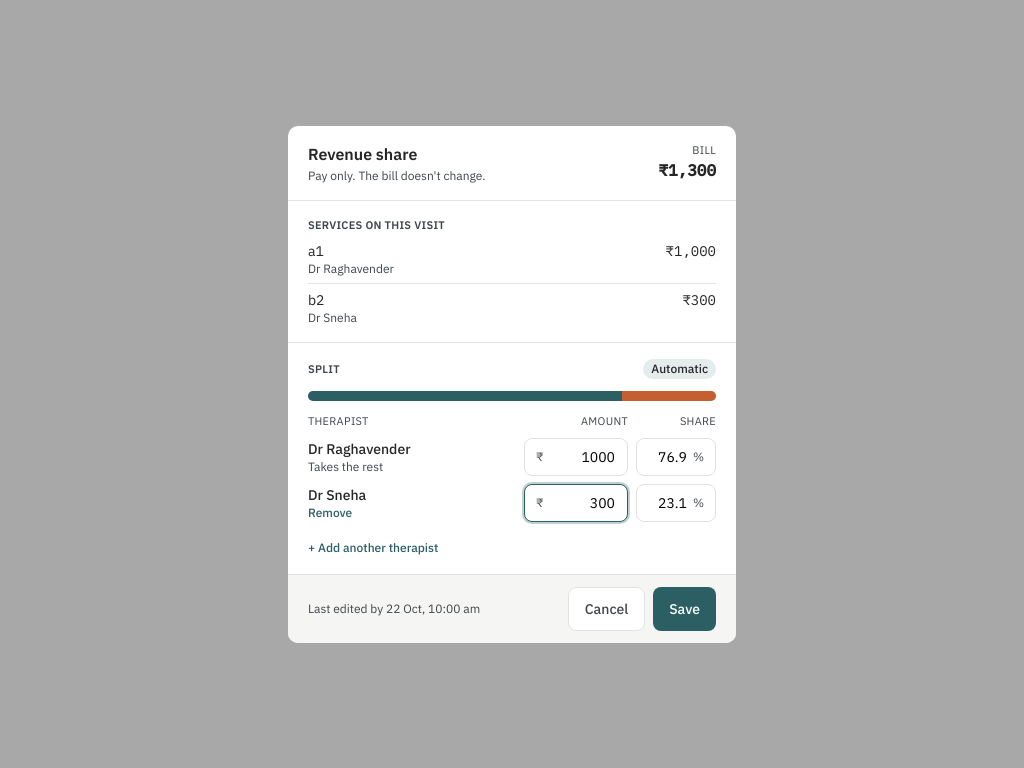
Test: RevenueShareEditor › adds a therapist from the picker
Click the button "+ Add another therapist" at (373, 548), box [308,540,438,556]
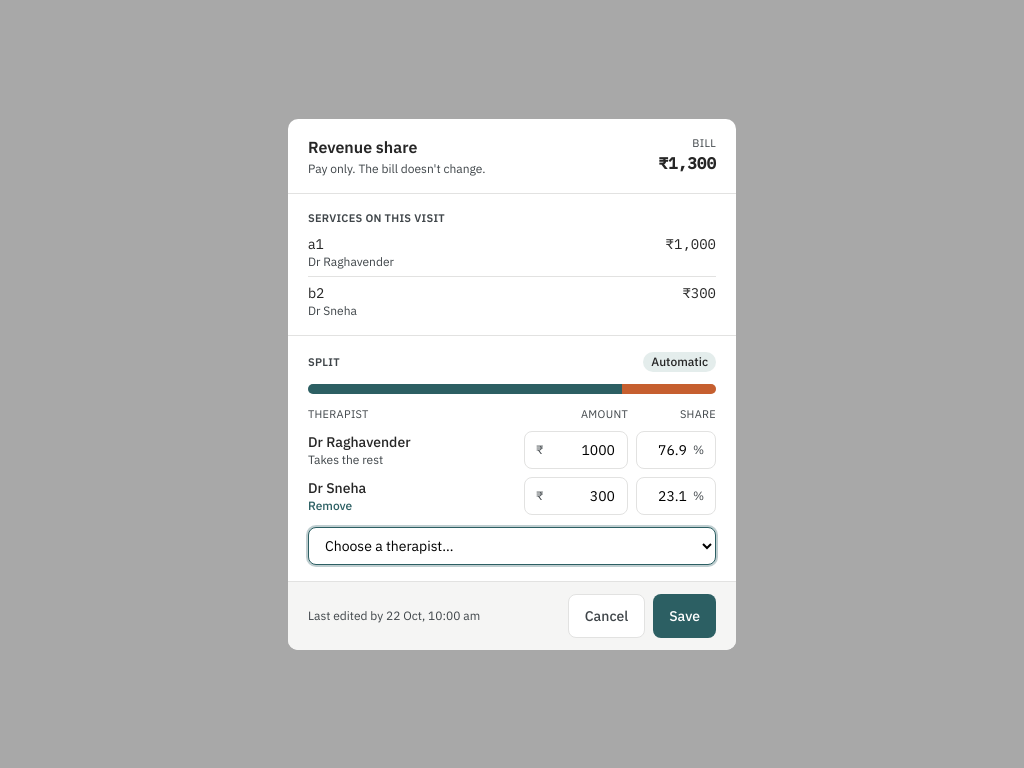
Select "Dr Extra" in the dropdown named "Add a therapist" at (512, 546), box [308,526,716,564]
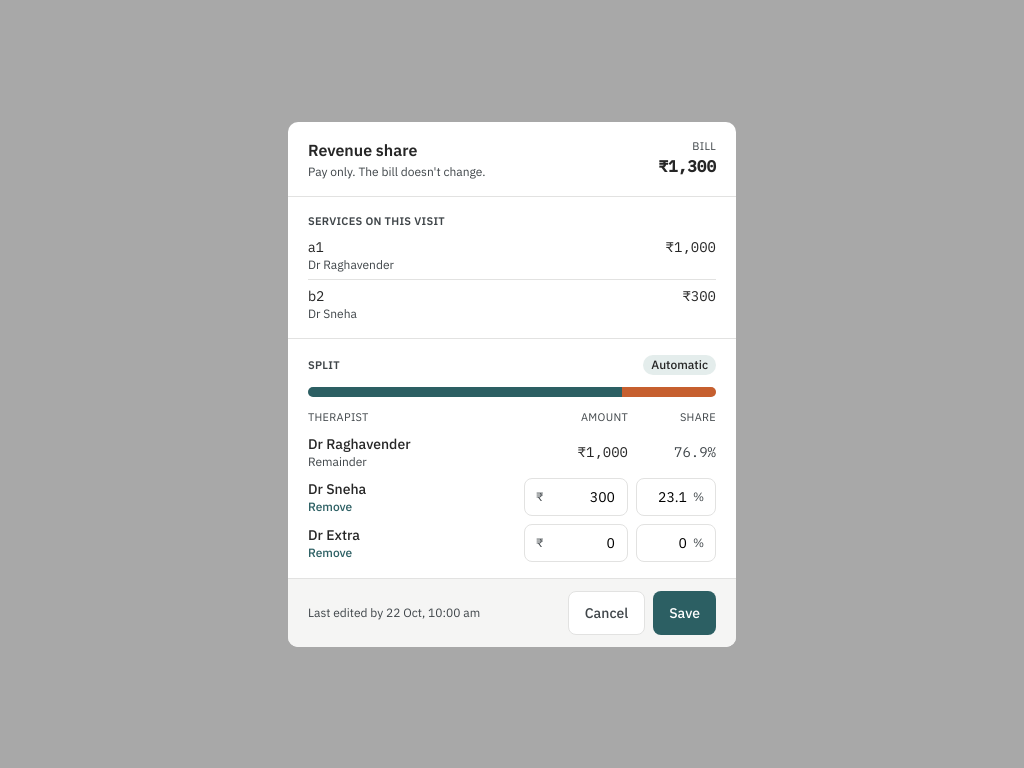
Expected: the number field named "Dr Extra share in rupees" holds "0", [524,524,628,562]
